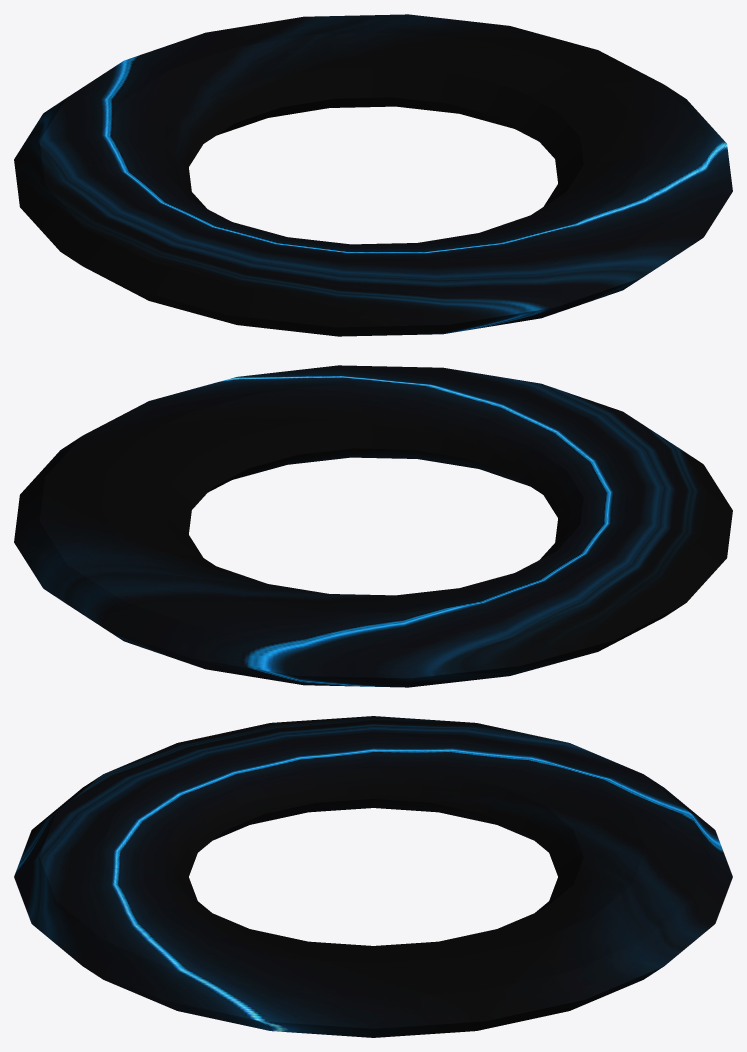
Rendered from twirl.fbx.
3 views of the same model, one above another, from view 1: azimuth 30°, elevation 25°; view 2: azimuth 150°, elevation 25°; view 3: azimuth 270°, elevation 25° (orthographic).
Visible parts, largest first — view 1: pTorus6; view 2: pTorus6; view 3: pTorus6.
Part boxes in pixels (x1,y1,x2,y2): pTorus6: (14, 14, 732, 336); pTorus6: (14, 365, 732, 687); pTorus6: (14, 716, 732, 1037).
Bounding box in the file's own units: 5.35 × 0.4613 × 5.35.
Materials: 1 (1 with a texture image).
